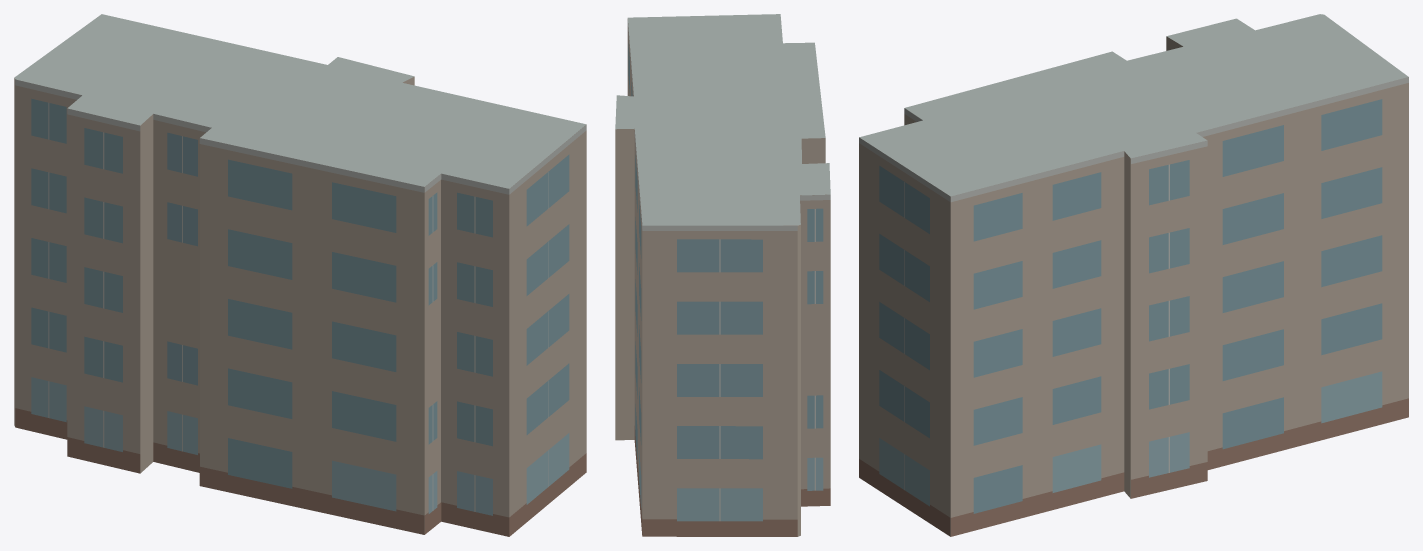
File: survey-upis-32756113.glb
3 views of the same model, side by side, from view 1: azimuth 30°, elevation 25°; view 2: azimuth 150°, elevation 25°; view 3: azimuth 270°, elevation 25° (orthographic). The views are drawn at different scales.
Visible parts, largest first — view 1: survey-upis-32756113.tmp; view 2: survey-upis-32756113.tmp; view 3: survey-upis-32756113.tmp.
Boxes of the visible parts, box(x1,y1,x2,y2) form: survey-upis-32756113.tmp: box(14, 14, 586, 536); survey-upis-32756113.tmp: box(615, 14, 830, 536); survey-upis-32756113.tmp: box(859, 14, 1408, 536).
Size of the model in its own units: 16.46 by 14.3 by 20.94.
